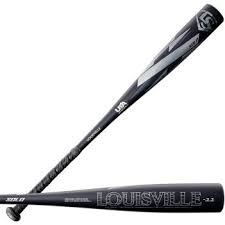baseball bat: (4, 3, 225, 222), (1, 180, 224, 213)
